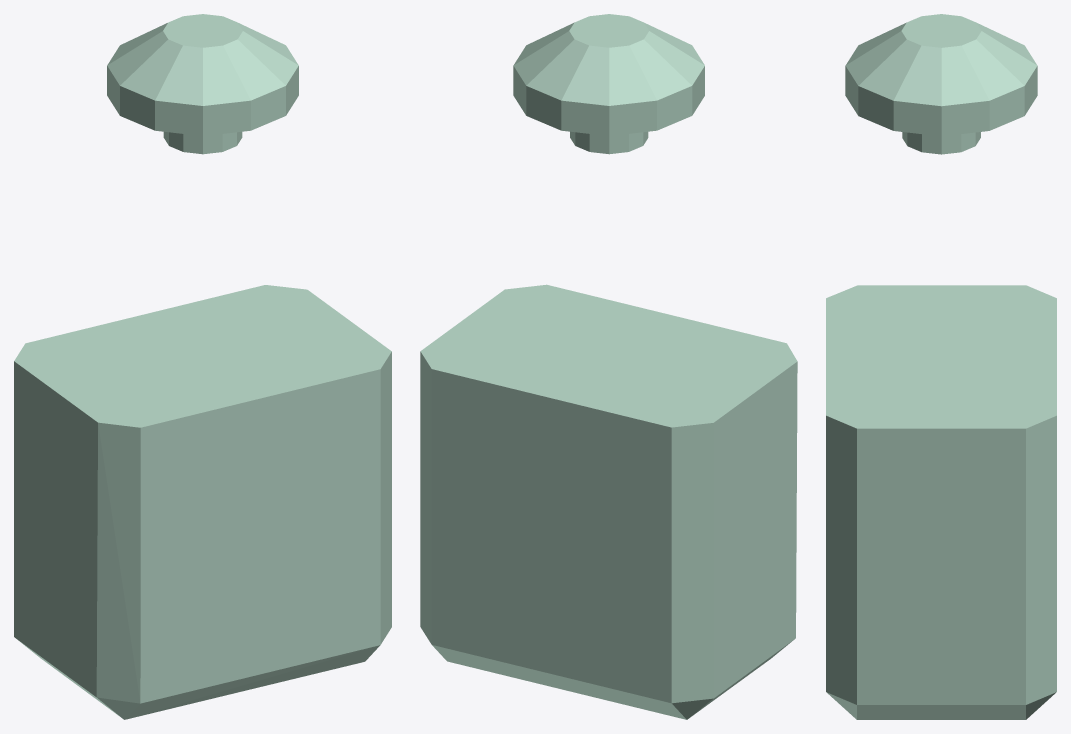
Rendered from potionbottlesolid.obj.
3 renders of one model, left to right at view 1: azimuth 30°, elevation 25°; view 2: azimuth 150°, elevation 25°; view 3: azimuth 270°, elevation 25°, orthographic.
Parts seen in each view (by area): view 1: bottlemeshinlay; view 2: bottlemeshinlay; view 3: bottlemeshinlay.
Part boxes in pixels (bbox=[...]): bottlemeshinlay: bbox=[14, 14, 391, 719]; bottlemeshinlay: bbox=[420, 14, 797, 719]; bottlemeshinlay: bbox=[826, 14, 1056, 719].
Bounding box in the file's own units: 2.19 × 4.49 × 1.49.
1 material, 1 textured.
